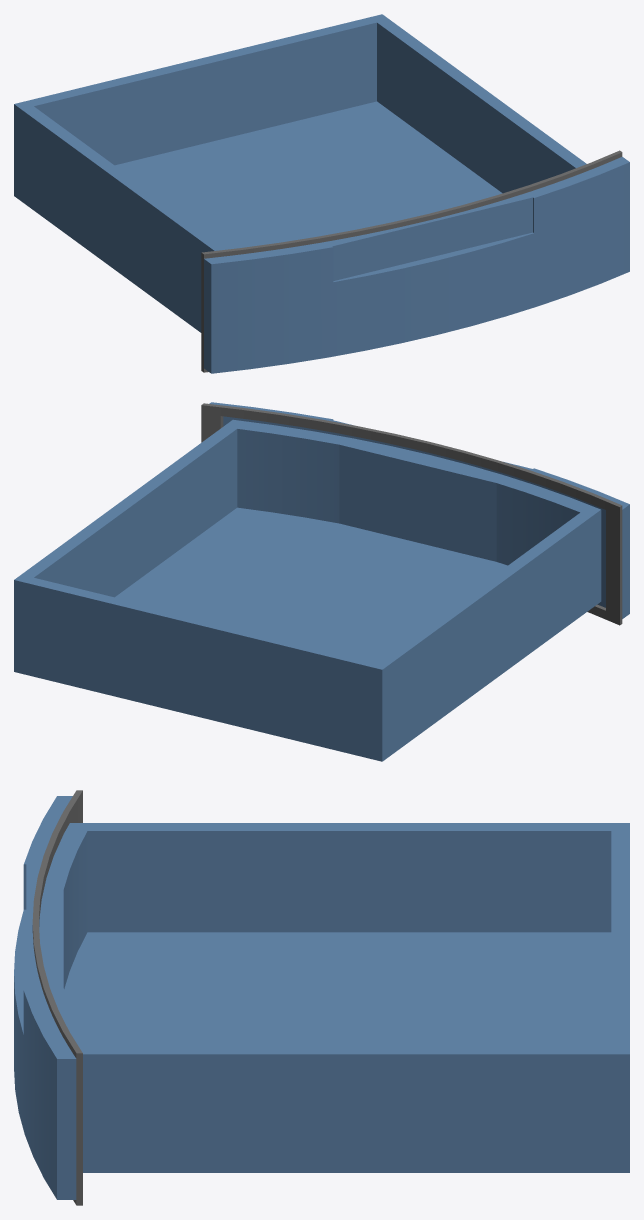
Rendered from esp2025_sa6_drawer.glb.
The picture shows the model from 3 angles, top to bottom: view 1: azimuth 30°, elevation 25°; view 2: azimuth 150°, elevation 25°; view 3: azimuth 270°, elevation 25°; orthographic projection. The views are drawn at different scales.
Visible parts, largest first — view 1: dispensing drawer, drawer seal; view 2: dispensing drawer, drawer seal; view 3: dispensing drawer, drawer seal.
Boxes of the visible parts, x1,y1,x2,y2 form: dispensing drawer: [14, 14, 629, 373]; drawer seal: [201, 150, 622, 372]; dispensing drawer: [14, 402, 629, 761]; drawer seal: [201, 403, 622, 625]; dispensing drawer: [14, 796, 629, 1199]; drawer seal: [32, 790, 82, 1205].
Size of the model in its own units: 50 by 13.5 by 49.5.
